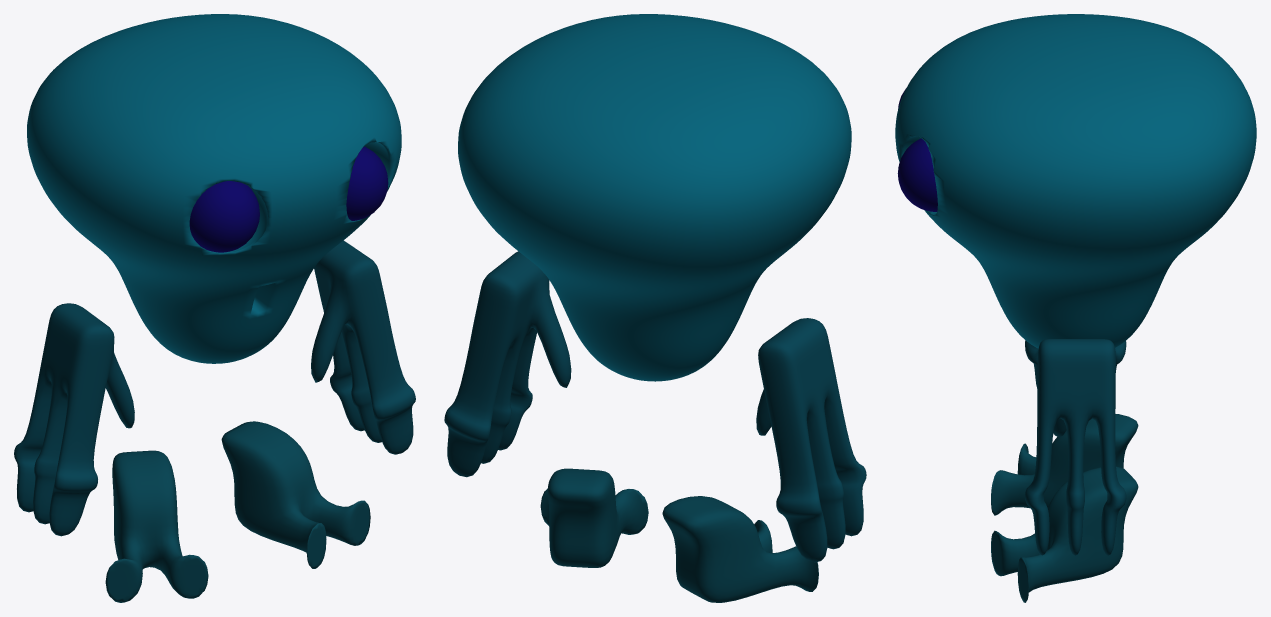
Rendered from ufo.glb.
3 renders of one model, left to right at view 1: azimuth 30°, elevation 25°; view 2: azimuth 150°, elevation 25°; view 3: azimuth 270°, elevation 25°, orthographic. The views are drawn at different scales.
Parts seen in each view (by area): view 1: Cube, Куб, Куб.001; view 2: Cube, Куб, Куб.001; view 3: Cube, Куб, Куб.001.
Part boxes in pixels (left/top/right/bottom): Cube: left=27, top=14, right=401, bottom=363; Куб: left=14, top=240, right=415, bottom=536; Куб.001: left=105, top=421, right=370, bottom=602; Cube: left=458, top=14, right=851, bottom=381; Куб: left=444, top=251, right=866, bottom=562; Куб.001: left=540, top=468, right=818, bottom=602; Cube: left=895, top=14, right=1256, bottom=348; Куб: left=1025, top=339, right=1126, bottom=555; Куб.001: left=991, top=414, right=1138, bottom=602.
Bounding box in the file's own units: 2.37 × 3.15 × 2.08.
